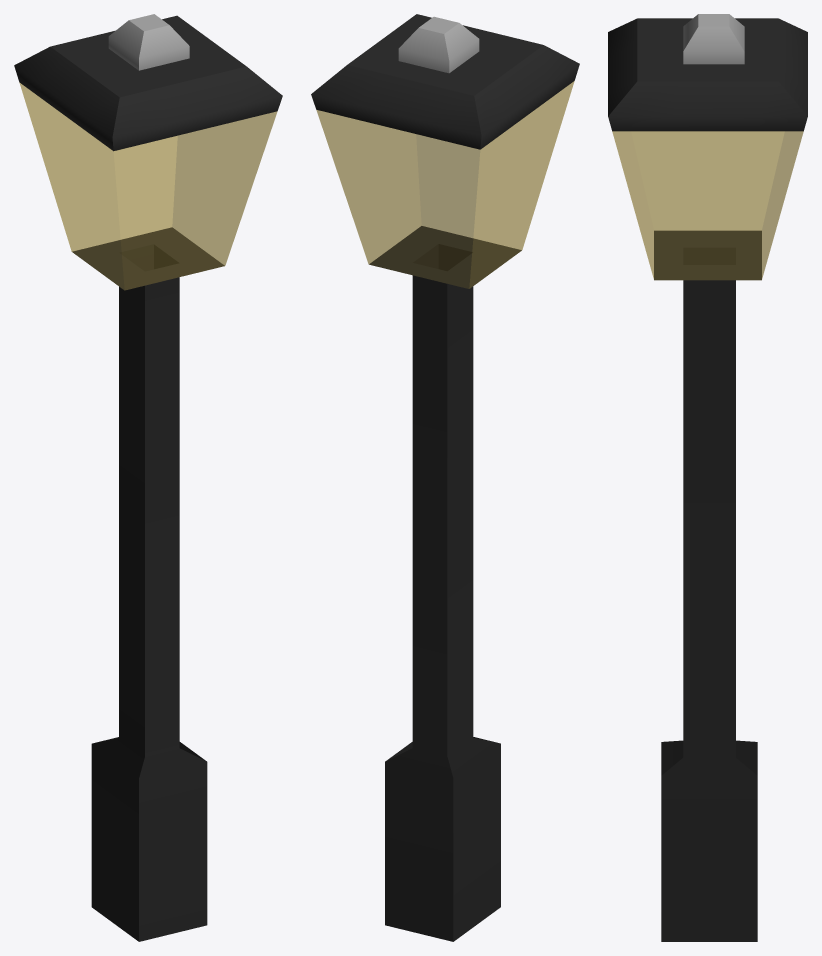
File: Light2.fbx
3 renders of one model, left to right at view 1: azimuth 30°, elevation 25°; view 2: azimuth 150°, elevation 25°; view 3: azimuth 270°, elevation 25°, orthographic.
Parts seen in each view (by area): view 1: pasted__pCube1; view 2: pasted__pCube1; view 3: pasted__pCube1.
Part boxes in pixels (x1,y1,x2,y2): pasted__pCube1: [14, 14, 282, 941]; pasted__pCube1: [311, 14, 579, 941]; pasted__pCube1: [608, 14, 807, 941].
Size of the model in its own units: 23.38 by 117 by 23.38.
